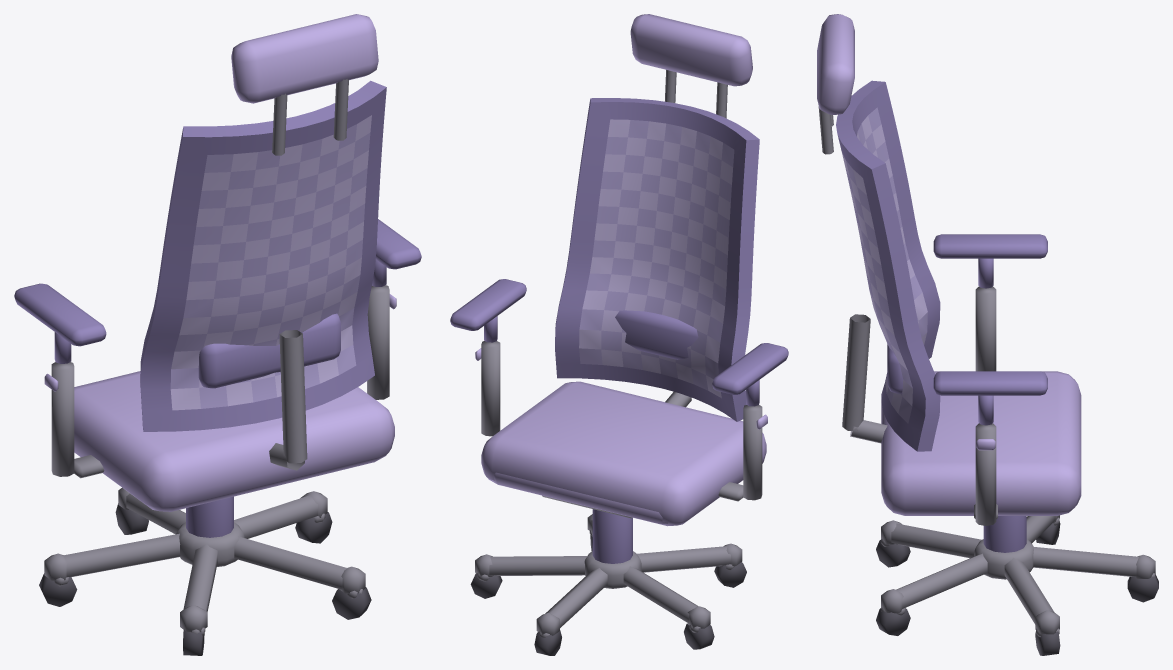
Rendered from ergo_chair.glb.
The picture shows the model from 3 angles, left to right: view 1: azimuth 30°, elevation 25°; view 2: azimuth 150°, elevation 25°; view 3: azimuth 270°, elevation 25°; orthographic projection. The views are drawn at different scales.
Parts seen in each view (by area): view 1: ergo_chair__ErgoLavDark, ergo_chair__ErgoLavender, ergo_chair__ErgoGrey, ergo_chair__ErgoMeshB, ergo_chair__ErgoMeshA, ergo_chair__Caster; view 2: ergo_chair__ErgoLavender, ergo_chair__ErgoLavDark, ergo_chair__ErgoMeshB, ergo_chair__ErgoMeshA, ergo_chair__ErgoGrey, ergo_chair__Caster; view 3: ergo_chair__ErgoLavender, ergo_chair__ErgoLavDark, ergo_chair__ErgoGrey, ergo_chair__ErgoMeshB, ergo_chair__ErgoMeshA, ergo_chair__Caster.
Boxes of the visible parts, x1,y1,x2,y2 form: ergo_chair__ErgoLavDark: (14,80,421,537); ergo_chair__ErgoLavender: (44,14,396,511); ergo_chair__ErgoGrey: (44,79,389,635); ergo_chair__ErgoMeshB: (170,124,370,408); ergo_chair__ErgoMeshA: (170,115,371,410); ergo_chair__Caster: (39,503,371,655); ergo_chair__ErgoLavender: (475,14,767,526); ergo_chair__ErgoLavDark: (450,98,788,563); ergo_chair__ErgoMeshB: (579,120,734,390); ergo_chair__ErgoMeshA: (579,119,732,398); ergo_chair__ErgoGrey: (475,70,762,637); ergo_chair__Caster: (470,535,746,655); ergo_chair__ErgoLavender: (817,14,1081,515); ergo_chair__ErgoLavDark: (836,80,1047,552); ergo_chair__ErgoGrey: (818,106,1155,636); ergo_chair__ErgoMeshB: (845,107,927,423); ergo_chair__ErgoMeshA: (842,115,927,413); ergo_chair__Caster: (876,521,1158,655).
Bounding box in the file's own units: 0.755 × 1.3 × 0.7177.
